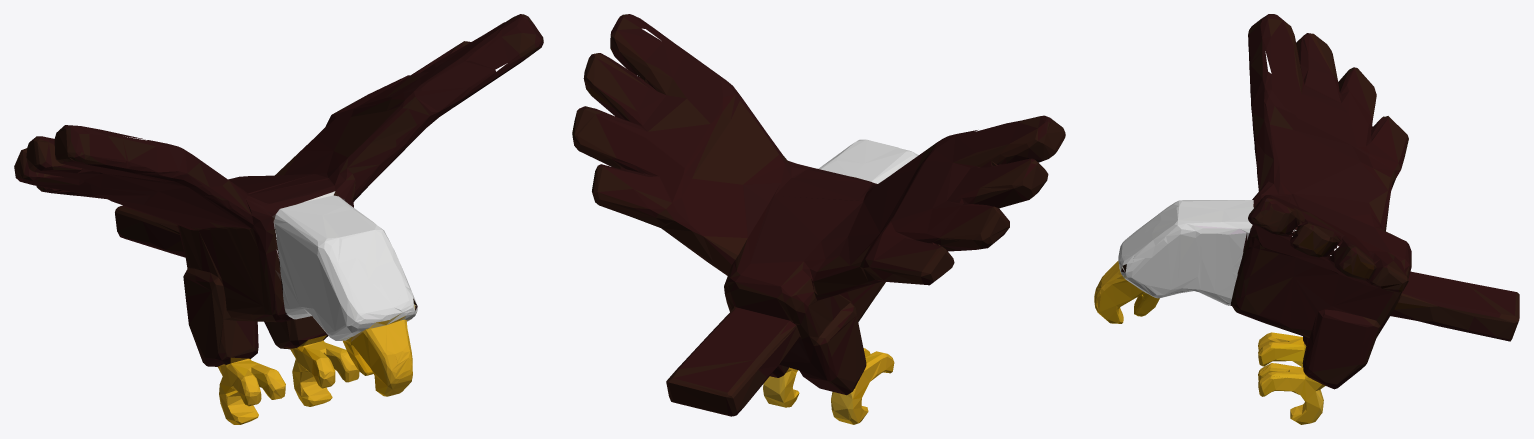
File: m-cruza-aguila.glb
3 views of the same model, side by side, from view 1: azimuth 30°, elevation 25°; view 2: azimuth 150°, elevation 25°; view 3: azimuth 270°, elevation 25° (orthographic). The views are drawn at different scales.
Size of the model in its own units: 1.9 by 1.33 by 1.71.
